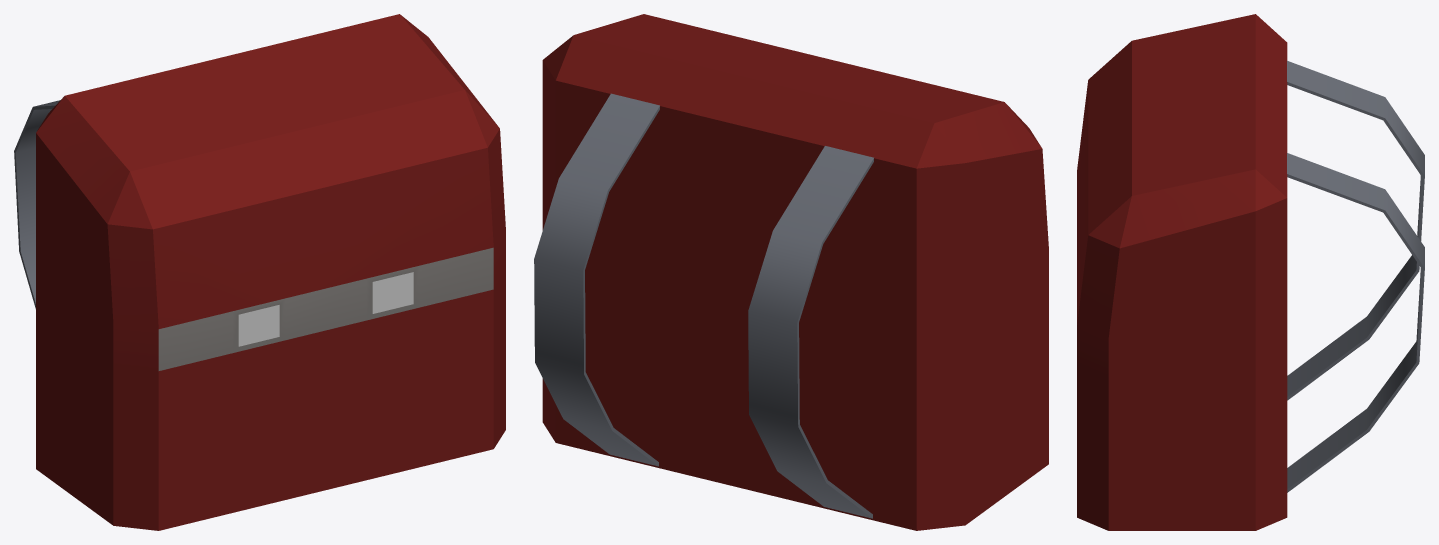
3 renders of one model, left to right at view 1: azimuth 30°, elevation 25°; view 2: azimuth 150°, elevation 25°; view 3: azimuth 270°, elevation 25°, orthographic. The views are drawn at different scales.
Visible parts, largest first — view 1: shubao_2:polySurface442; view 2: shubao_2:polySurface442; view 3: shubao_2:polySurface442.
Part boxes in pixels (left/top/right/bottom): shubao_2:polySurface442: left=14, top=14, right=505, bottom=530; shubao_2:polySurface442: left=534, top=14, right=1048, bottom=530; shubao_2:polySurface442: left=1077, top=14, right=1424, bottom=530.
Size of the model in its own units: 36.02 by 32.13 by 29.09.
